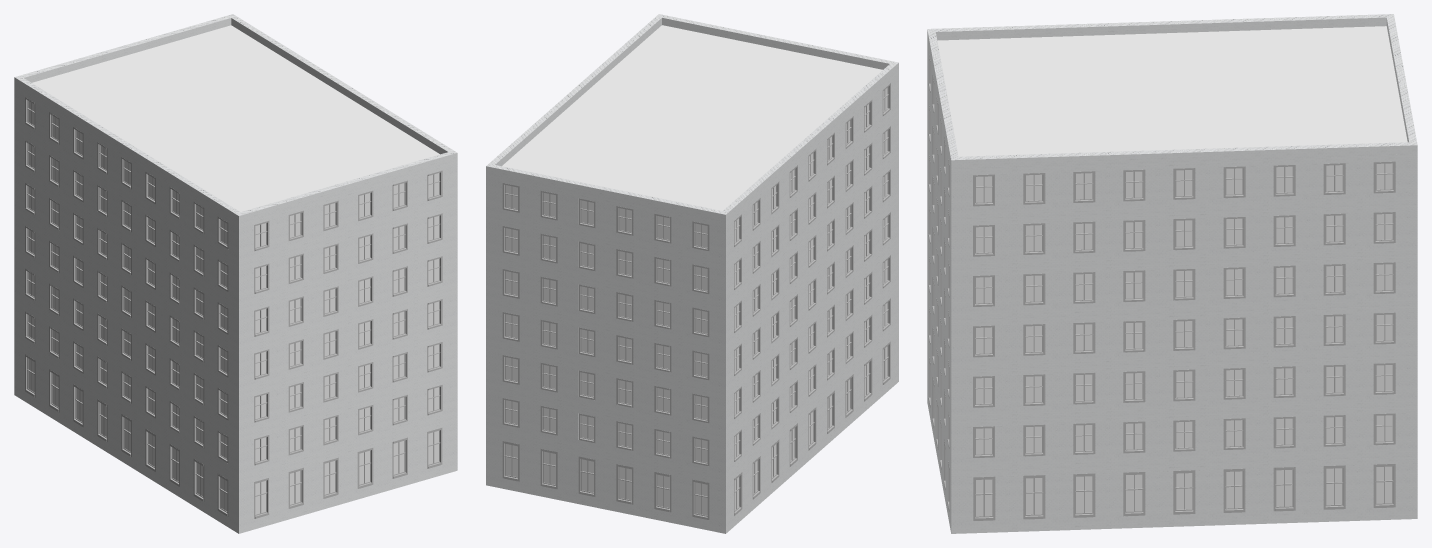
File: clohc1j6n03h14p025kjd3eyh_0.glb
3 renders of one model, left to right at view 1: azimuth 30°, elevation 25°; view 2: azimuth 150°, elevation 25°; view 3: azimuth 270°, elevation 25°, orthographic. The views are drawn at different scales.
Parts seen in each view (by area): view 1: mesh_Brick, mesh_CityEnginePBRShader, mesh_Rim, mesh_Glass; view 2: mesh_Brick, mesh_CityEnginePBRShader, mesh_Rim, mesh_Glass; view 3: mesh_Brick, mesh_CityEnginePBRShader, mesh_Rim, mesh_Glass.
Part boxes in pixels (left/top/right/bottom): mesh_Brick: left=14, top=14, right=457, bottom=533; mesh_CityEnginePBRShader: left=32, top=25, right=439, bottom=211; mesh_Rim: left=25, top=97, right=442, bottom=518; mesh_Glass: left=28, top=101, right=439, bottom=514; mesh_Brick: left=486, top=14, right=898, bottom=533; mesh_CityEnginePBRShader: left=502, top=25, right=882, bottom=210; mesh_Rim: left=502, top=83, right=890, bottom=519; mesh_Glass: left=505, top=88, right=887, bottom=515; mesh_Brick: left=927, top=14, right=1417, bottom=533; mesh_CityEnginePBRShader: left=937, top=26, right=1407, bottom=156; mesh_Rim: left=928, top=55, right=1395, bottom=520; mesh_Glass: left=976, top=163, right=1392, bottom=516.
Bounding box in the file's own units: 22 × 26.2 × 31.16.
Materials: 4 (1 with a texture image).
